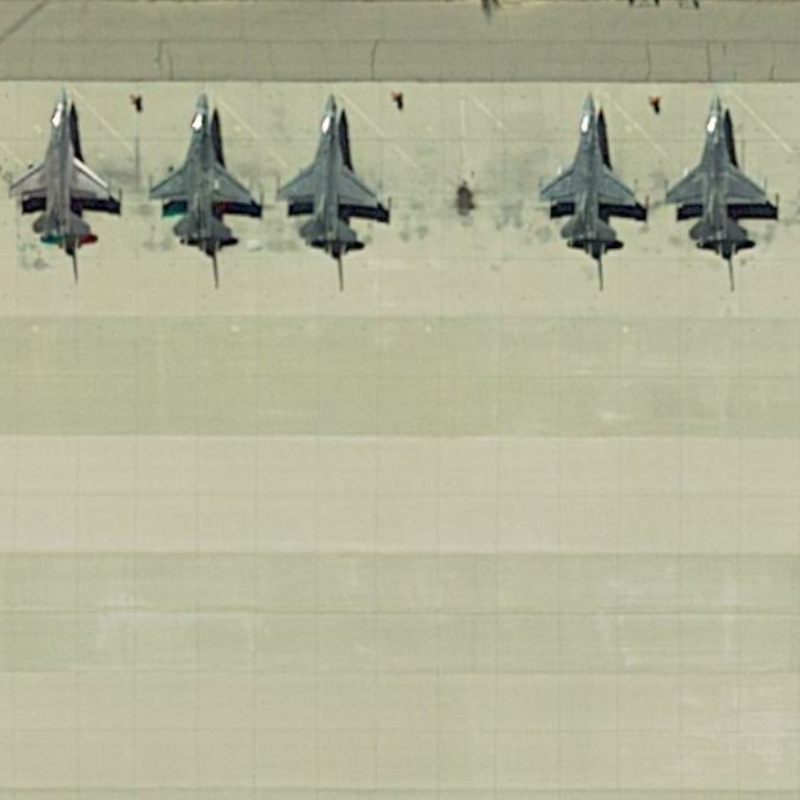A5: (145, 89, 270, 254), (279, 86, 394, 261), (665, 86, 781, 257), (531, 92, 645, 264), (12, 83, 128, 249)
